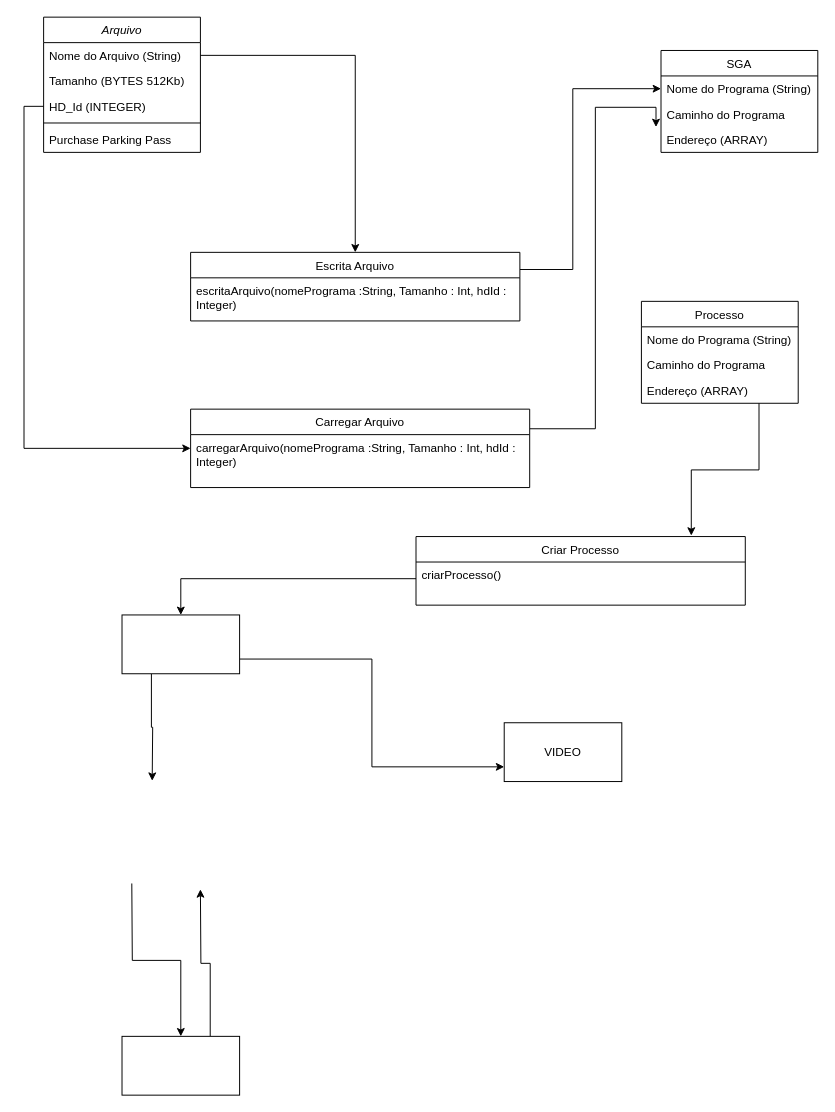
Some shapes in this 835 by 1112 pixel diagram are drawn without their labels. The shapes that lost their labels are listed below. From the top down, each one's centre as x and y in pixels, then its label:
the point at 180,644: CPU
the point at 180,1065: HD
